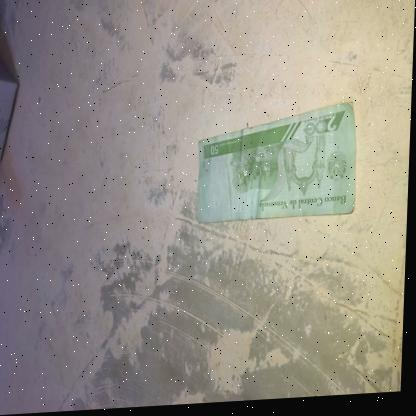fifty-back-vef: (197, 104, 359, 226)
